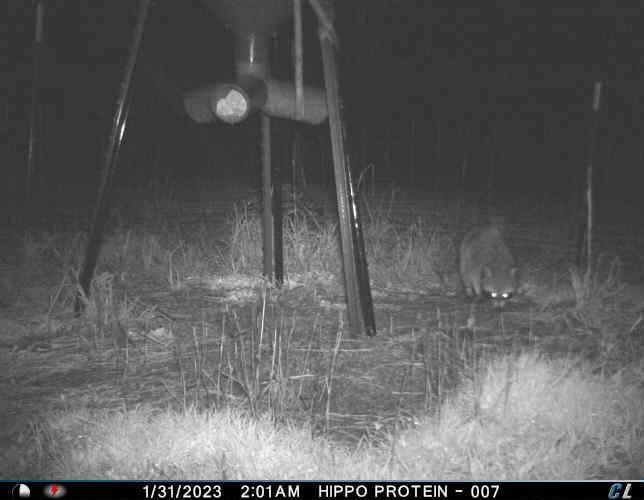Raccoon: (456, 216, 520, 314)
